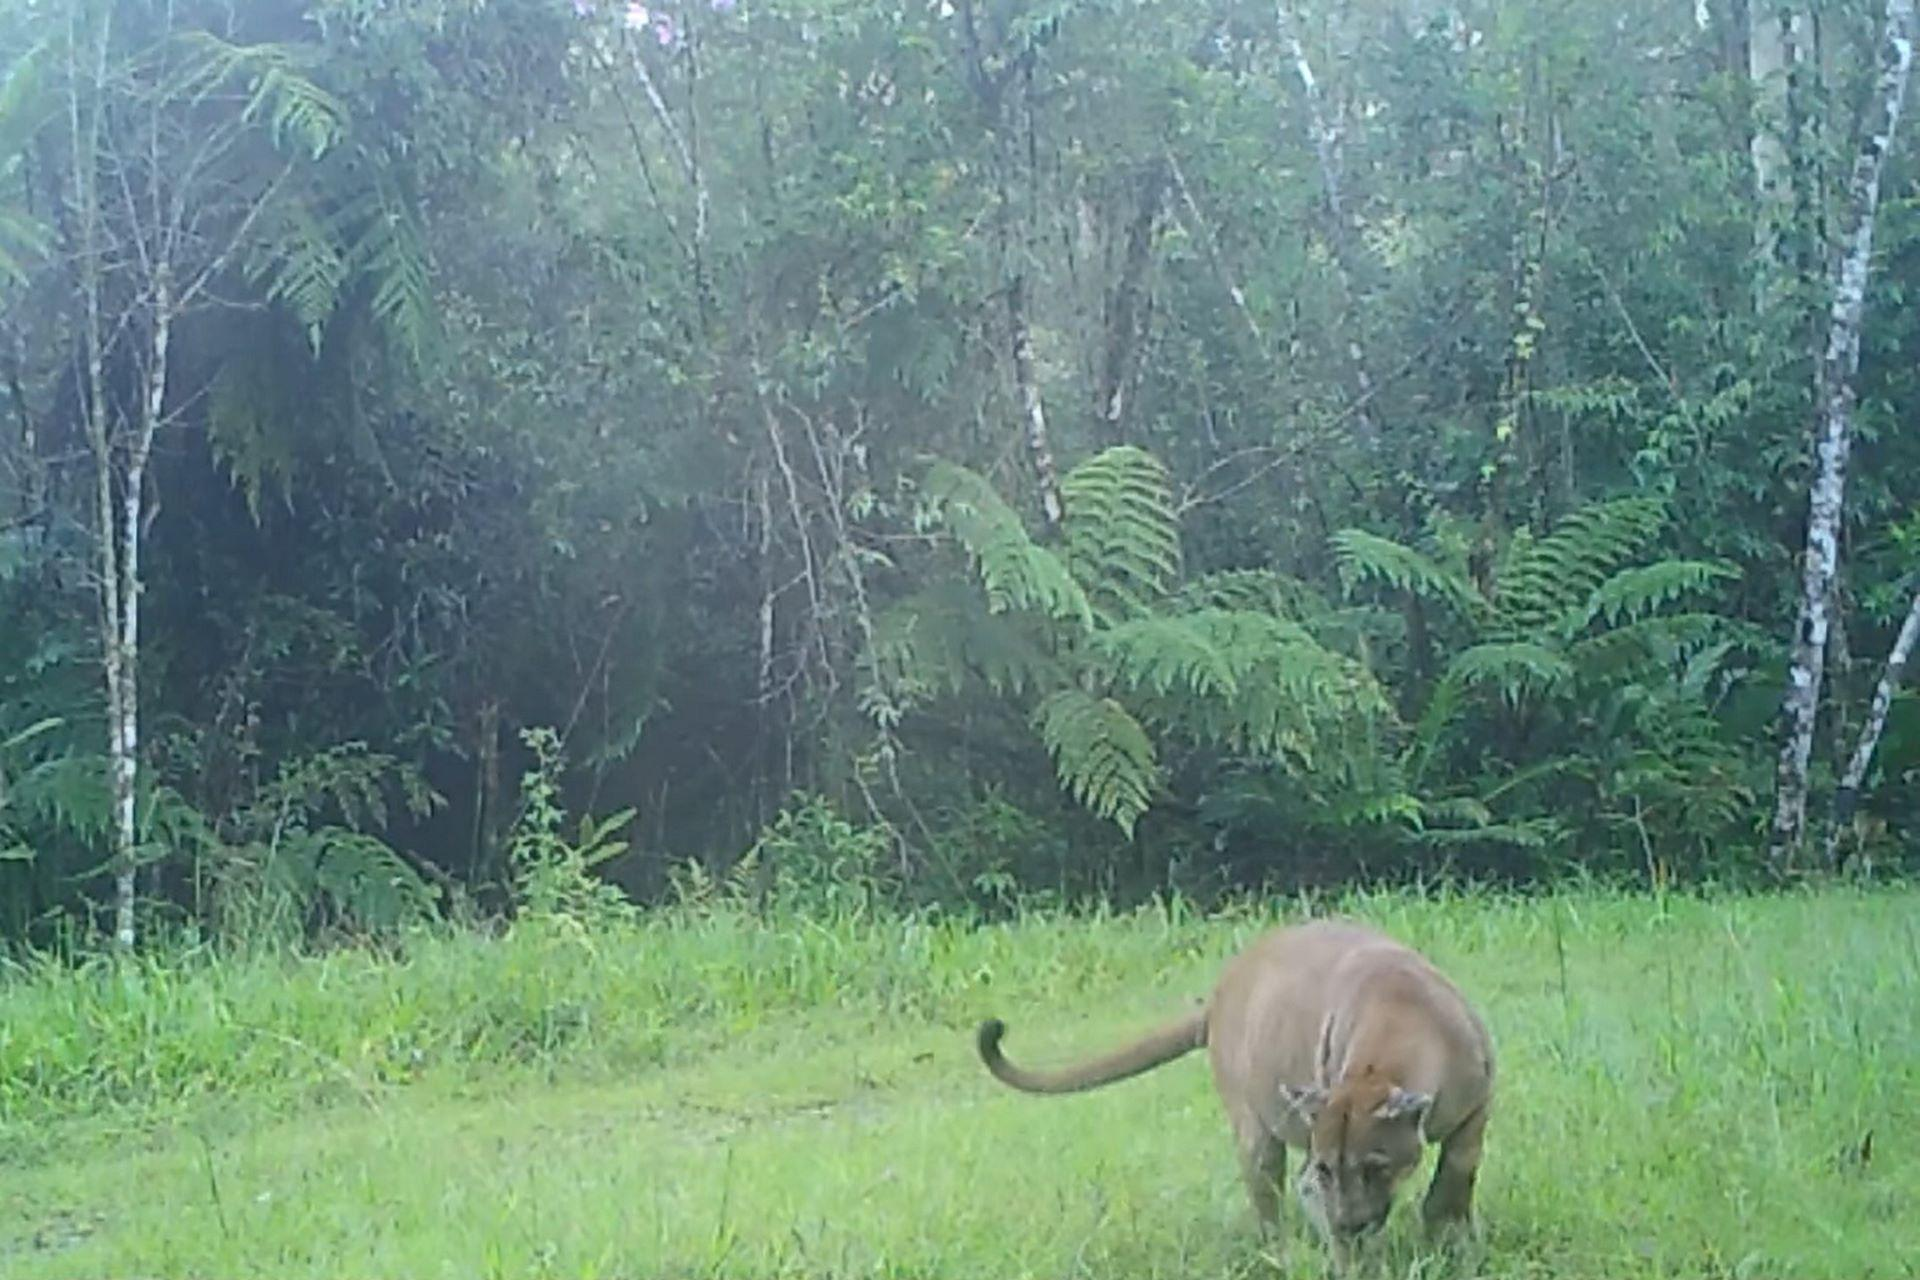OncaParda: (920, 913, 1511, 1254)
